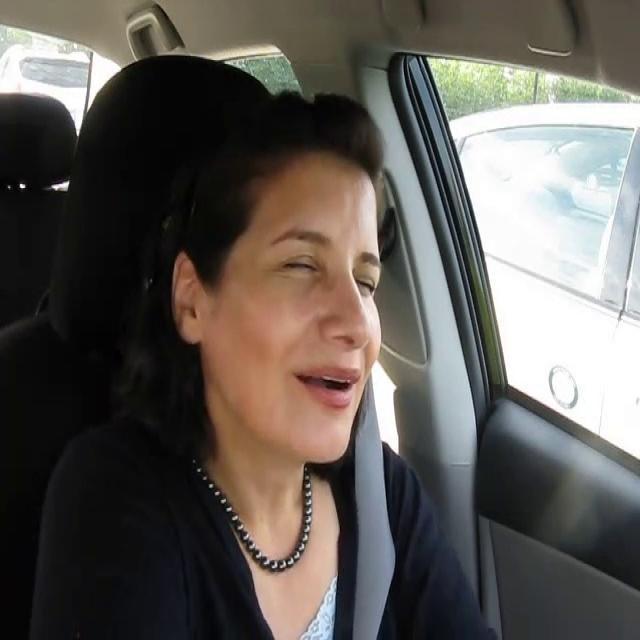open: (292, 356, 362, 414)
